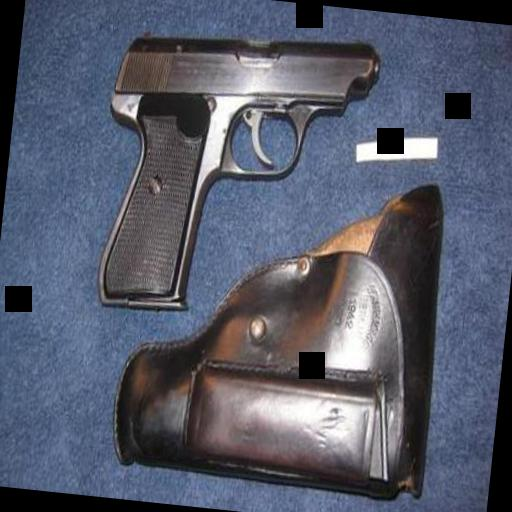Handgun: (86, 12, 382, 334)
